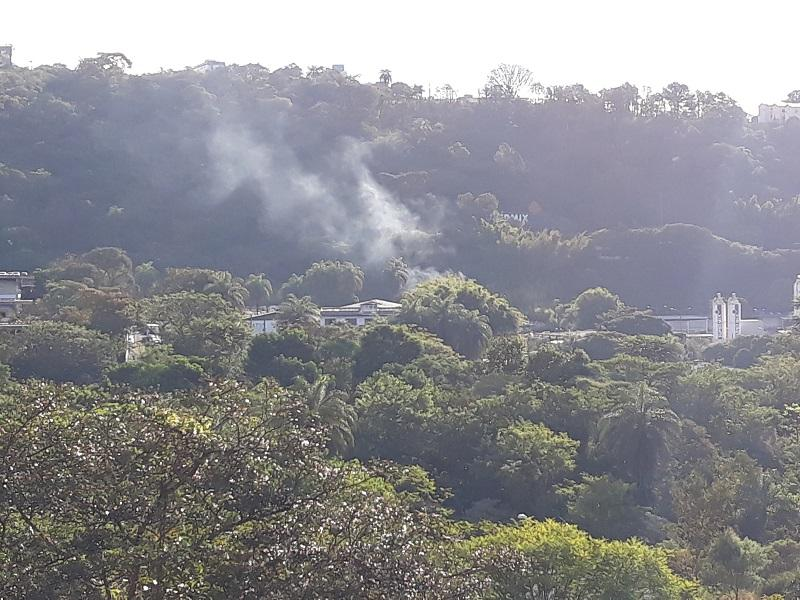smoke: (293, 169, 397, 240)
